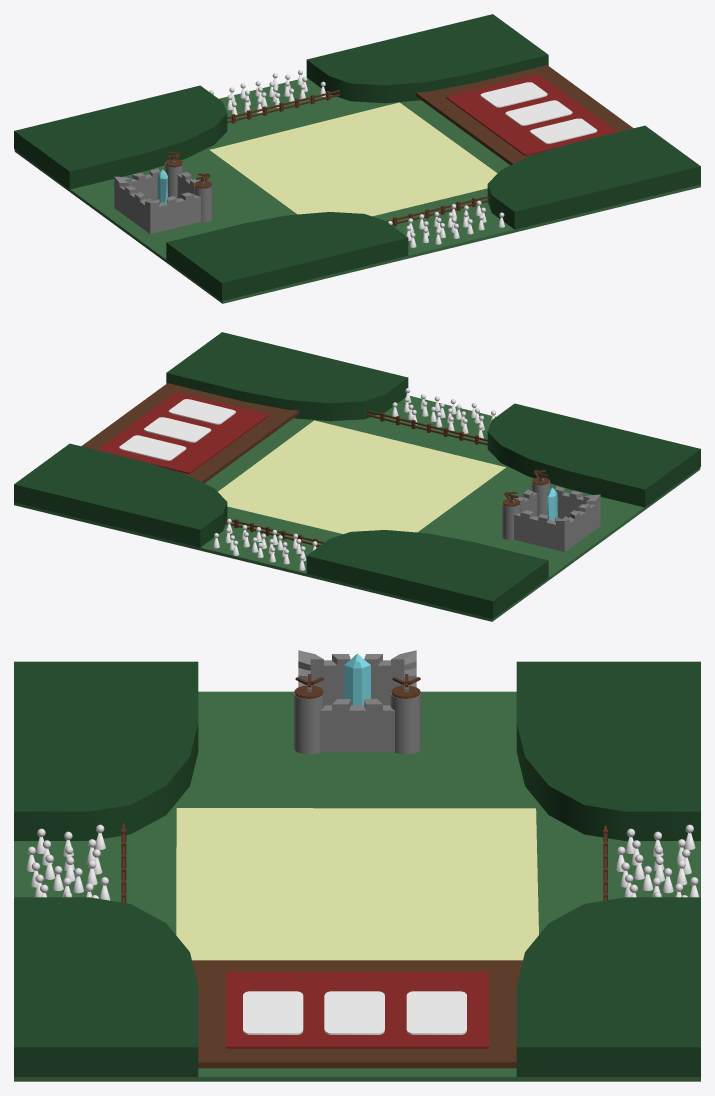
Rendered from block out map.fbx.
The picture shows the model from 3 angles, top to bottom: view 1: azimuth 30°, elevation 25°; view 2: azimuth 150°, elevation 25°; view 3: azimuth 270°, elevation 25°; orthographic projection. The views are drawn at different scales.
Parts seen in each view (by area): view 1: ground plane.001, ground plane, Cube.038, Cube.040, Cube.039, Cube.041, cloth, tabel, main base walls, crowd 1, crowd 2, card.002 (+3 smaller); view 2: ground plane.001, ground plane, Cube.039, Cube.041, Cube.038, Cube.040, cloth, tabel, main base walls, crowd 2, crowd 1, card.001 (+3 smaller); view 3: ground plane.001, ground plane, Cube.040, Cube.041, Cube.038, Cube.039, tabel, cloth, main base walls, crowd 1, crowd 2, card.001 (+5 smaller).
Boxes of the visible parts, box(x1,y1,x2,y2) form: ground plane.001: box(209, 102, 497, 216); ground plane: box(14, 78, 700, 303); Cube.038: box(166, 212, 408, 300); Cube.040: box(487, 125, 700, 229); Cube.039: box(14, 85, 227, 189); Cube.041: box(306, 14, 548, 103); cloth: box(446, 74, 617, 156); tabel: box(416, 65, 633, 165); main base walls: box(114, 168, 200, 233); crowd 1: box(388, 200, 504, 247); crowd 2: box(209, 70, 325, 115); card.002: box(530, 118, 597, 143); ground plane.001: box(218, 420, 505, 533); ground plane: box(14, 396, 700, 621); Cube.039: box(306, 530, 548, 618); Cube.041: box(14, 443, 227, 547); Cube.038: box(487, 403, 700, 507); Cube.040: box(166, 332, 408, 421); cloth: box(97, 392, 268, 474); tabel: box(81, 383, 298, 483); main base walls: box(514, 486, 600, 551); crowd 2: box(213, 518, 317, 570); crowd 1: box(391, 388, 495, 439); card.001: box(144, 417, 211, 442); ground plane.001: box(176, 808, 538, 960); ground plane: box(14, 691, 700, 1081); Cube.040: box(14, 897, 198, 1076); Cube.041: box(516, 897, 700, 1076); Cube.038: box(14, 661, 198, 840); Cube.039: box(516, 661, 700, 840); tabel: box(192, 960, 522, 1068); cloth: box(226, 971, 488, 1048); main base walls: box(298, 650, 416, 751); crowd 1: box(26, 824, 110, 900); crowd 2: box(615, 824, 698, 897); card.001: box(324, 991, 384, 1034).
Size of the model in its own units: 499 by 47.52 by 376.
